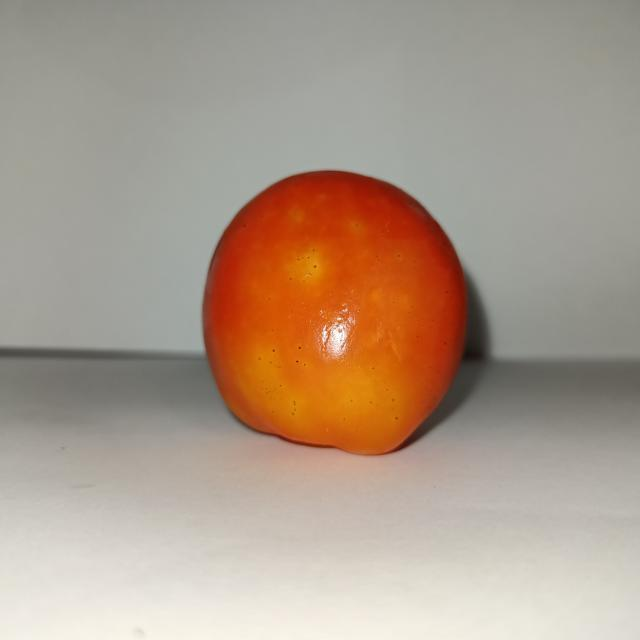Red: (200, 167, 469, 456)
